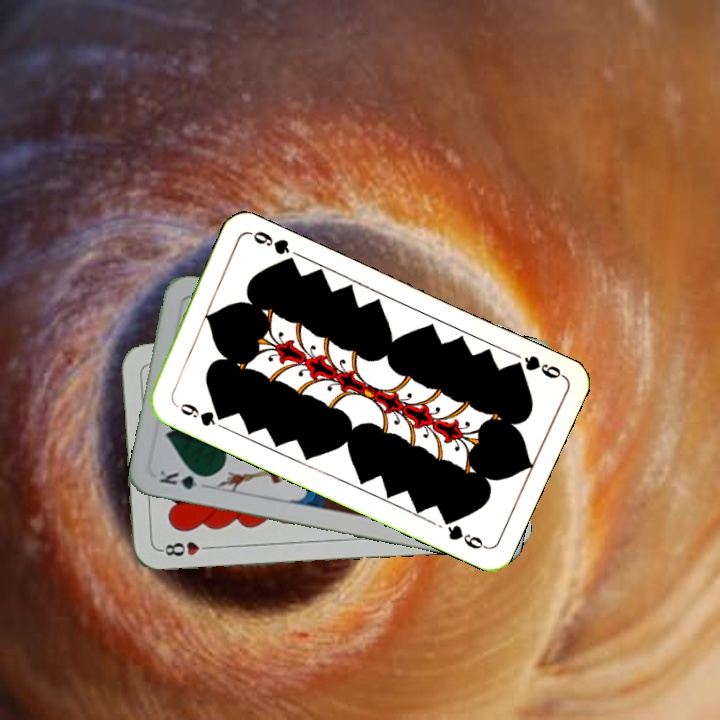G9: (506, 351, 566, 382), (169, 398, 228, 429)
GK: (155, 466, 213, 492)
H8: (156, 538, 215, 559)
